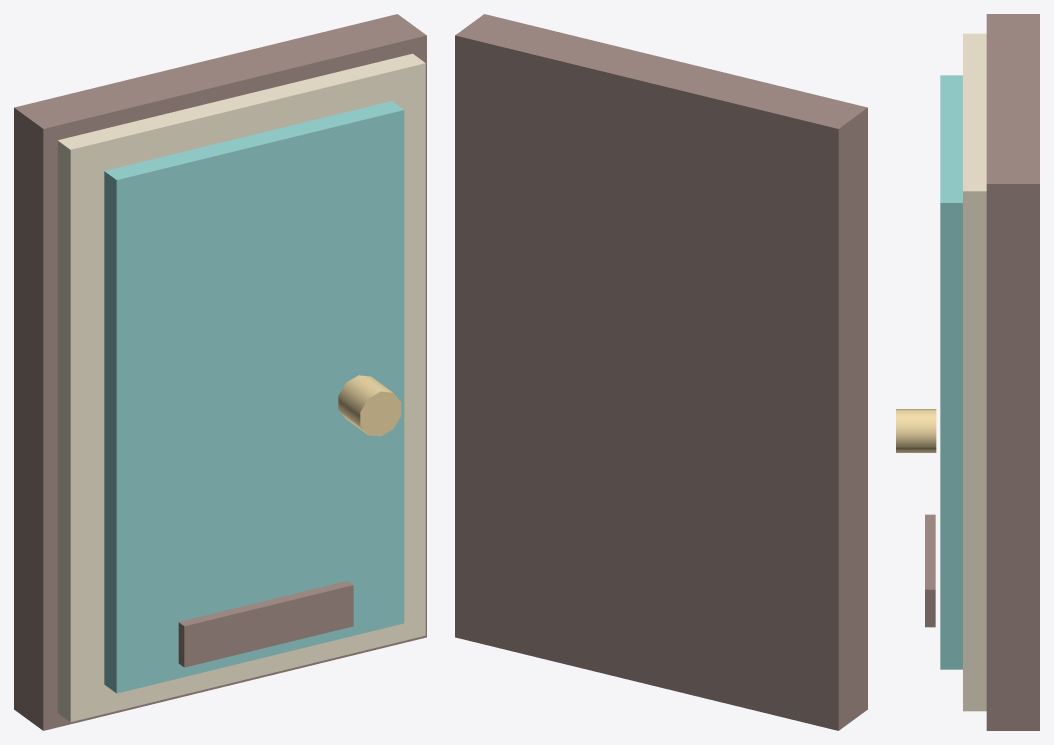
The model's file is 13_puerta_diminuta.glb.
3 views of the same model, side by side, from view 1: azimuth 30°, elevation 25°; view 2: azimuth 150°, elevation 25°; view 3: azimuth 270°, elevation 25° (orthographic). The views are drawn at different scales.
Parts seen in each view (by area): view 1: door (×2), body (×2); view 2: body; view 3: body (×2), door (×2).
Part boxes in pixels (bbox=[...]): door (×2): bbox=[104, 101, 404, 693]; body (×2): bbox=[14, 14, 426, 730]; body: bbox=[455, 14, 867, 730]; body (×2): bbox=[925, 14, 1039, 730]; door (×2): bbox=[896, 75, 962, 669].
Size of the model in its own units: 0.34 by 0.51 by 0.1215.
